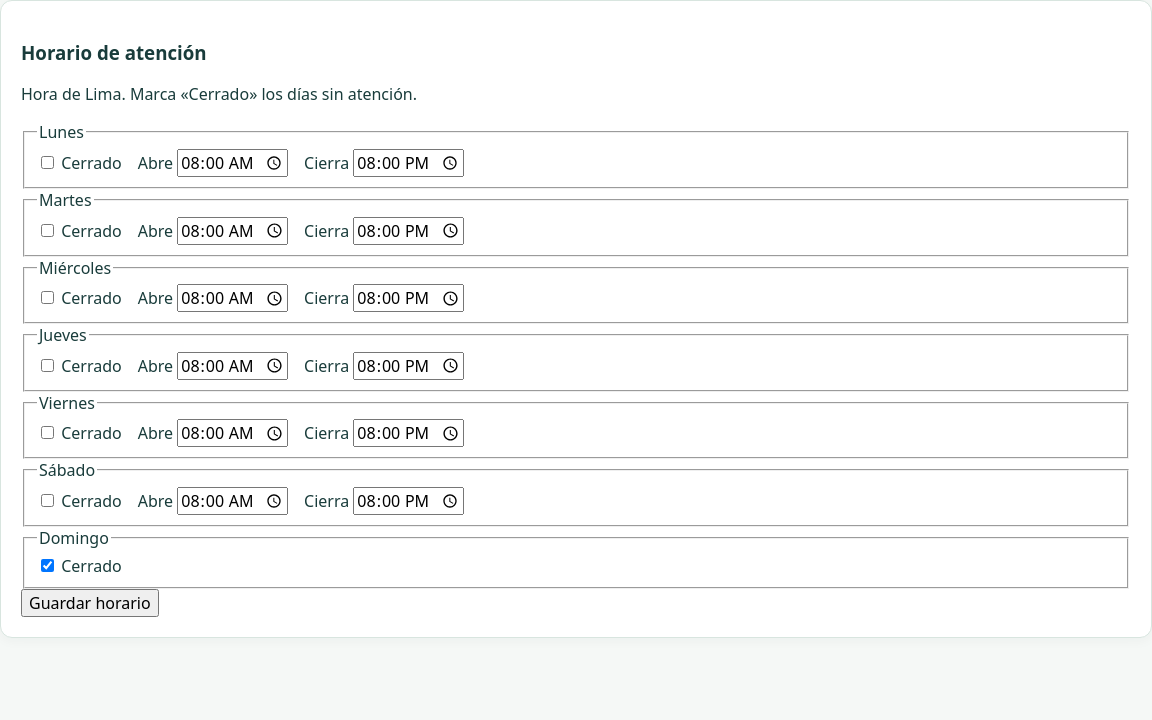
Scenario: F07.1 · horario (FR-008) › carga, valida y guarda con la versión actual
The width and height of the screenshot is (1152, 720).
Replace the text in the time field labelled "Abre" below "Lunes" with "21:00" at (233, 163), box [177, 149, 288, 177]
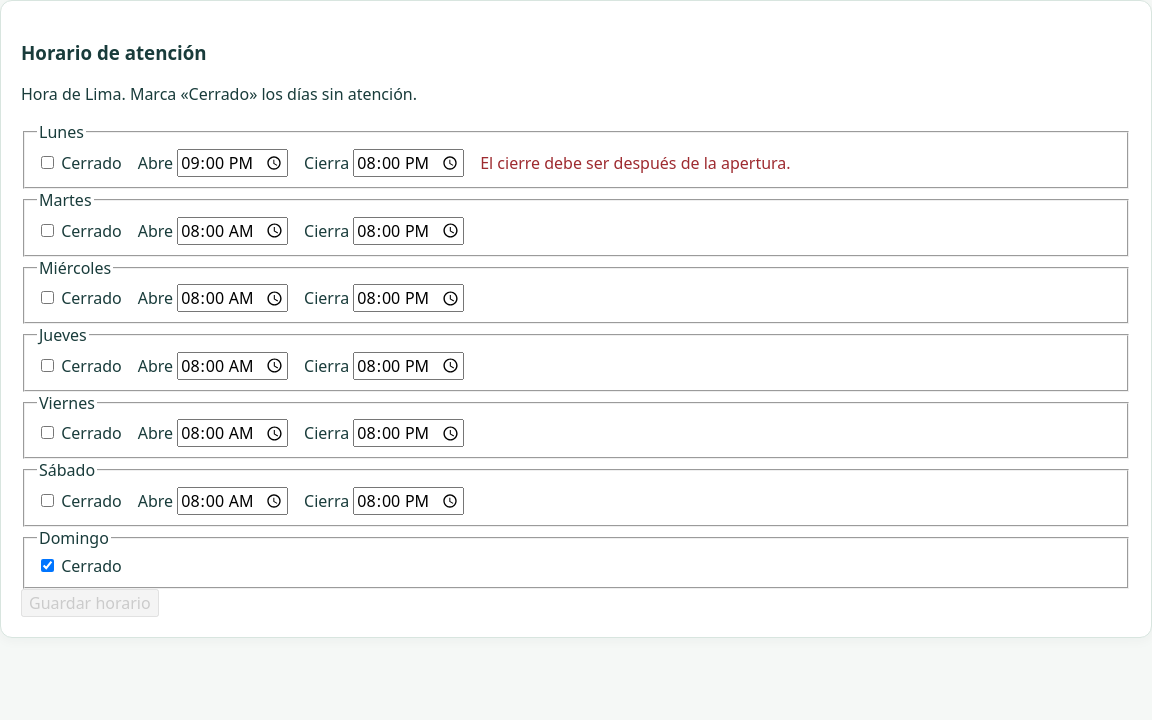
Check: the text "El cierre debe ser después de la apertura." is shown, box [480, 152, 791, 174]
Check: the button "Guardar horario" is disabled, box [21, 589, 159, 617]
Replace the text in the time field labelled "Abre" below "Lunes" with "09:00" at (233, 163), box [177, 149, 288, 177]
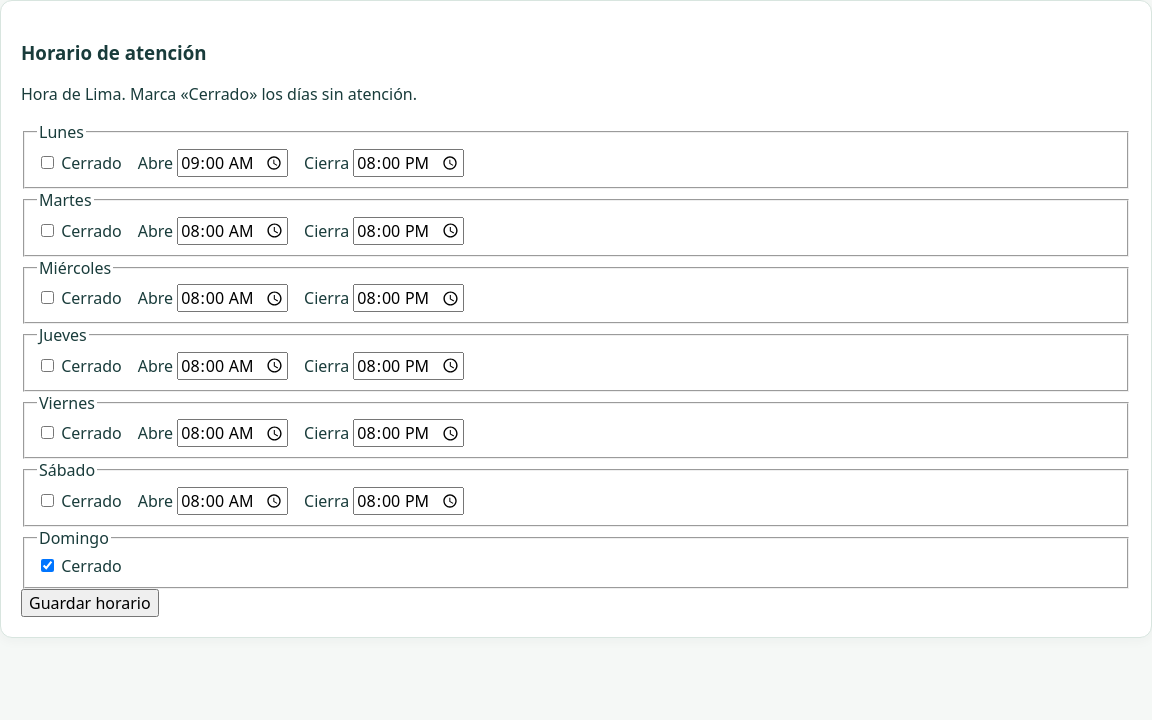
Click the button "Guardar horario".
click(90, 603)  # box [21, 589, 159, 617]
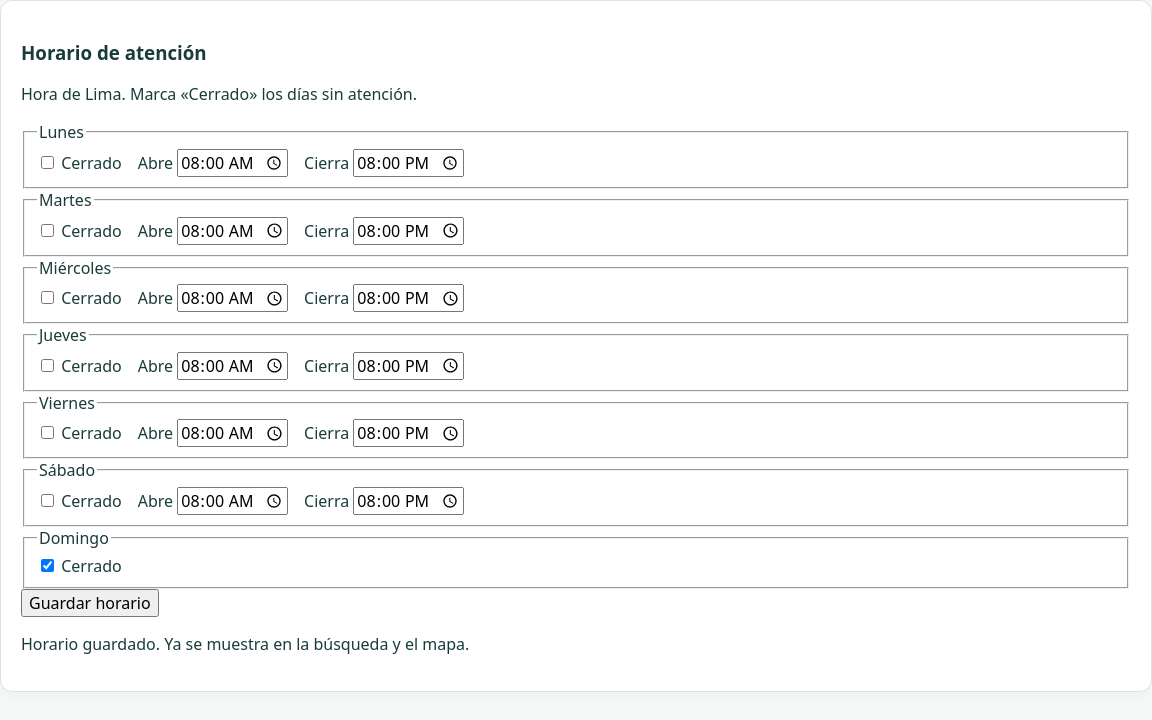
Check: the text "Horario guardado. Ya se muestra en la búsqueda y el mapa." is shown, box [21, 633, 469, 655]
